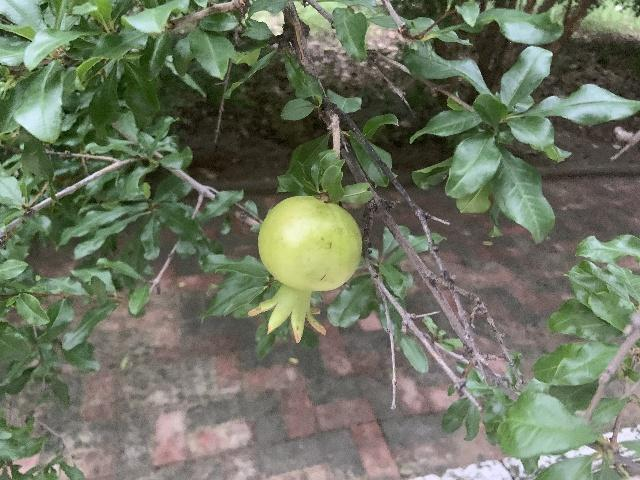mid-growth: (247, 196, 362, 343)
